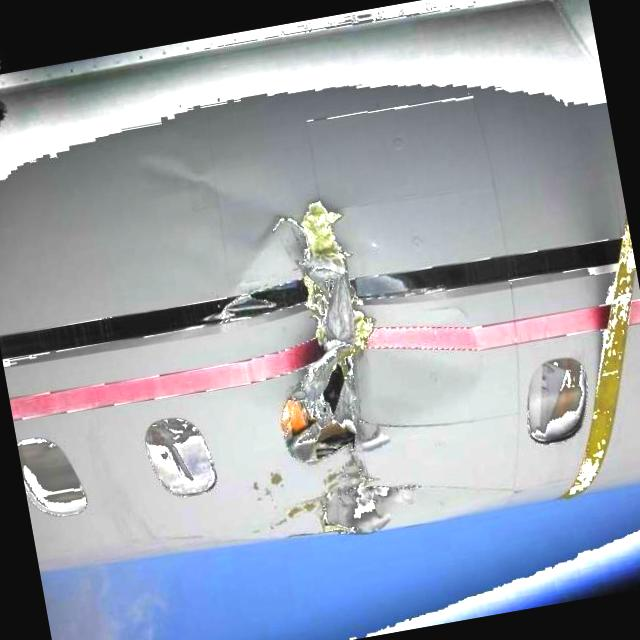crack: (250, 187, 428, 546)
dent: (353, 266, 498, 424), (134, 128, 298, 238)
